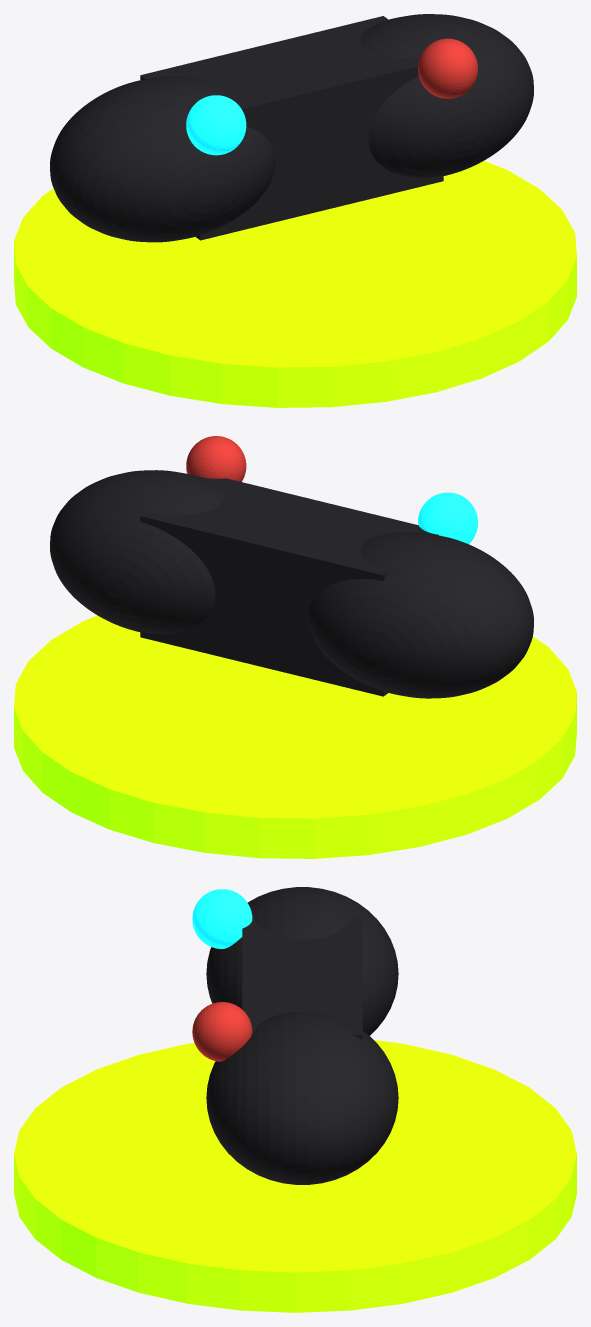
The model's file is tech_game_controller.glb.
3 views of the same model, one above another, from view 1: azimuth 30°, elevation 25°; view 2: azimuth 150°, elevation 25°; view 3: azimuth 270°, elevation 25° (orthographic).
Parts seen in each view (by area): view 1: 08_03_Popular_Tech_Game_Controller_ROOT_base, 08_03_Popular_Tech_Game_Controller_part_03, 08_03_Popular_Tech_Game_Controller_part_01, 08_03_Popular_Tech_Game_Controller_part_02, 08_03_Popular_Tech_Game_Controller_part_04, 08_03_Popular_Tech_Game_Controller_part_05; view 2: 08_03_Popular_Tech_Game_Controller_ROOT_base, 08_03_Popular_Tech_Game_Controller_part_01, 08_03_Popular_Tech_Game_Controller_part_03, 08_03_Popular_Tech_Game_Controller_part_02, 08_03_Popular_Tech_Game_Controller_part_04, 08_03_Popular_Tech_Game_Controller_part_05; view 3: 08_03_Popular_Tech_Game_Controller_ROOT_base, 08_03_Popular_Tech_Game_Controller_part_02, 08_03_Popular_Tech_Game_Controller_part_03, 08_03_Popular_Tech_Game_Controller_part_01, 08_03_Popular_Tech_Game_Controller_part_04, 08_03_Popular_Tech_Game_Controller_part_05.
Part boxes in pixels (box(x1,y1,x2,y2)): 08_03_Popular_Tech_Game_Controller_ROOT_base: box(14, 161, 576, 407); 08_03_Popular_Tech_Game_Controller_part_03: box(140, 16, 443, 240); 08_03_Popular_Tech_Game_Controller_part_01: box(50, 76, 275, 242); 08_03_Popular_Tech_Game_Controller_part_02: box(360, 14, 533, 177); 08_03_Popular_Tech_Game_Controller_part_04: box(186, 95, 246, 155); 08_03_Popular_Tech_Game_Controller_part_05: box(418, 38, 477, 98); 08_03_Popular_Tech_Game_Controller_ROOT_base: box(14, 615, 576, 858); 08_03_Popular_Tech_Game_Controller_part_01: box(308, 532, 533, 698); 08_03_Popular_Tech_Game_Controller_part_03: box(140, 475, 438, 696); 08_03_Popular_Tech_Game_Controller_part_02: box(50, 470, 223, 633); 08_03_Popular_Tech_Game_Controller_part_04: box(418, 492, 477, 544); 08_03_Popular_Tech_Game_Controller_part_05: box(186, 436, 246, 481); 08_03_Popular_Tech_Game_Controller_ROOT_base: box(14, 1040, 576, 1312); 08_03_Popular_Tech_Game_Controller_part_02: box(206, 1011, 398, 1184); 08_03_Popular_Tech_Game_Controller_part_03: box(242, 916, 362, 1039); 08_03_Popular_Tech_Game_Controller_part_01: box(206, 887, 398, 1035); 08_03_Popular_Tech_Game_Controller_part_04: box(192, 889, 252, 948); 08_03_Popular_Tech_Game_Controller_part_05: box(192, 1002, 252, 1061).
Bounding box in the file's own units: 0.76 × 0.3657 × 0.76.
